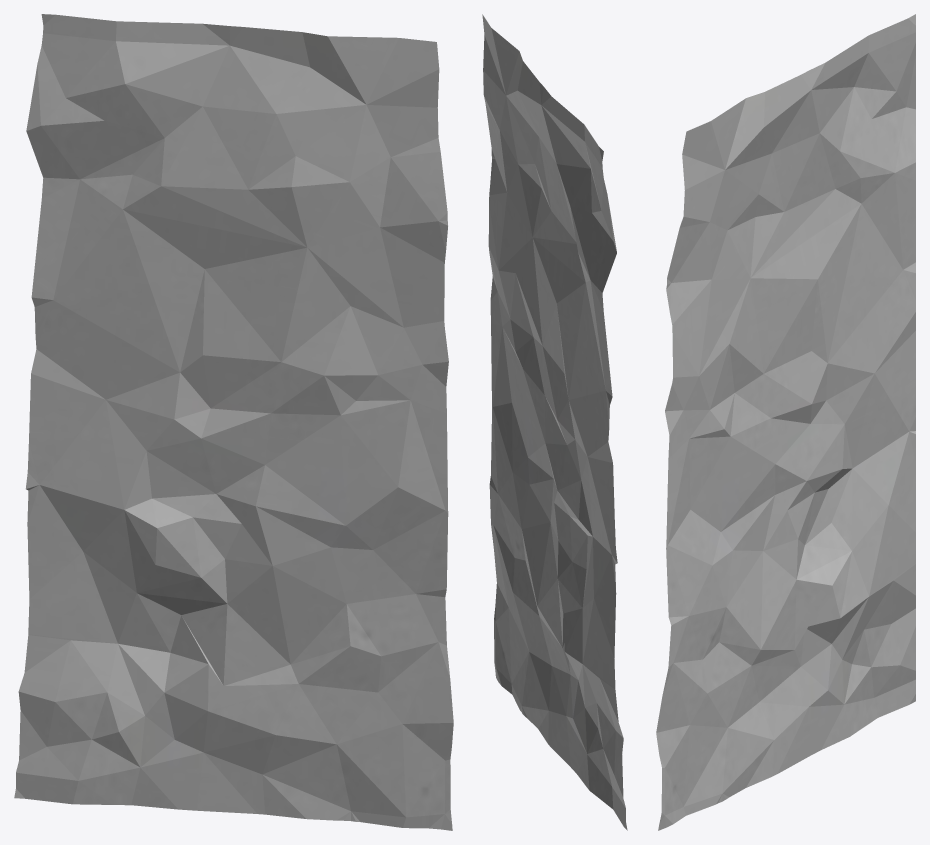
3 views of the same model, side by side, from view 1: azimuth 30°, elevation 25°; view 2: azimuth 150°, elevation 25°; view 3: azimuth 270°, elevation 25° (orthographic). The views are drawn at different scales.
Bounding box in the file's own units: 0.3327 × 0.8373 × 0.2818.
1 material, 1 textured.
